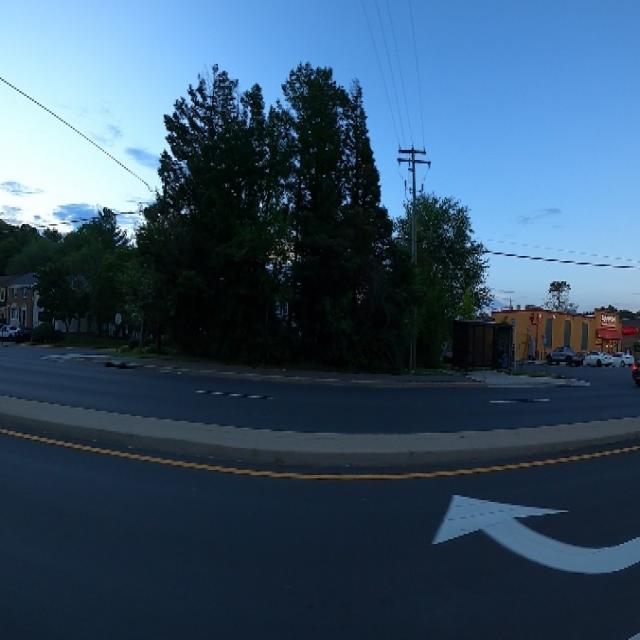cars: (545, 333, 584, 374), (584, 344, 612, 374), (612, 344, 633, 375), (0, 318, 20, 344), (630, 353, 640, 391)
